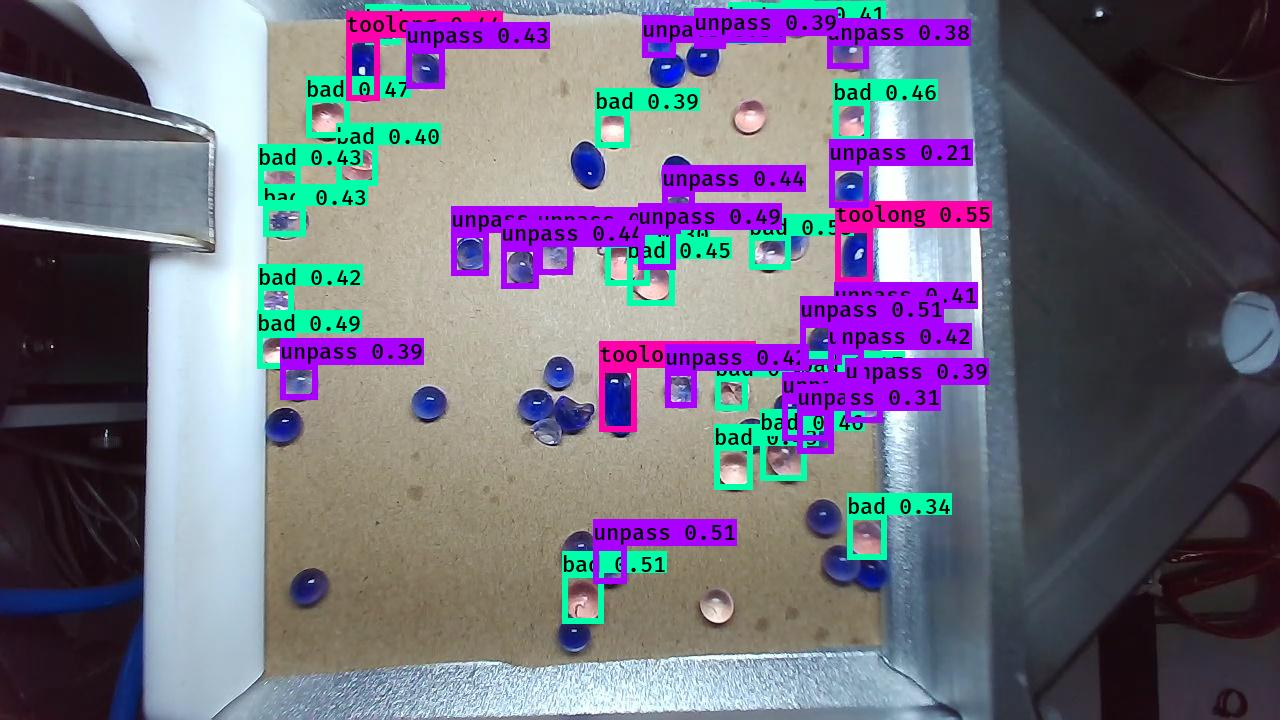bad: (765, 437, 808, 485), (559, 577, 605, 621), (304, 98, 348, 143), (336, 142, 379, 187), (846, 518, 892, 559), (259, 169, 306, 209), (603, 242, 645, 285), (695, 585, 736, 629), (832, 99, 872, 142), (727, 2, 767, 44), (731, 95, 767, 140), (632, 263, 673, 302), (365, 10, 404, 49), (803, 374, 844, 411), (269, 205, 313, 238), (715, 447, 752, 486), (258, 288, 295, 326), (780, 1, 816, 39), (715, 379, 751, 414), (260, 334, 295, 367), (599, 112, 632, 146), (753, 239, 784, 274), (530, 420, 561, 448)
defact: (595, 215, 627, 260)
pass: (551, 391, 596, 443), (570, 140, 609, 190), (263, 408, 306, 449), (287, 568, 330, 609), (818, 542, 859, 585), (515, 391, 554, 435), (411, 382, 452, 423), (559, 526, 595, 569), (806, 500, 845, 539), (555, 614, 593, 654), (734, 423, 772, 462), (657, 155, 695, 194), (649, 50, 685, 89), (687, 39, 722, 78), (540, 354, 575, 393), (773, 390, 807, 429)
toolong: (599, 367, 645, 439), (342, 40, 381, 103), (839, 227, 875, 289)
unpass: (831, 22, 875, 71), (451, 232, 491, 278), (802, 324, 844, 367), (498, 249, 540, 291), (769, 218, 810, 259), (658, 374, 700, 411), (277, 364, 319, 401), (831, 170, 871, 208), (408, 50, 445, 90), (594, 543, 627, 587), (537, 236, 576, 273), (660, 195, 698, 232), (826, 352, 863, 387), (798, 416, 835, 450), (846, 388, 883, 422), (841, 310, 873, 349), (695, 12, 730, 47), (648, 228, 681, 265), (645, 17, 676, 56)
